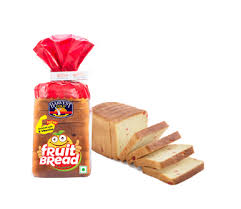bread: (26, 33, 94, 179), (131, 115, 204, 188), (88, 88, 141, 168)
